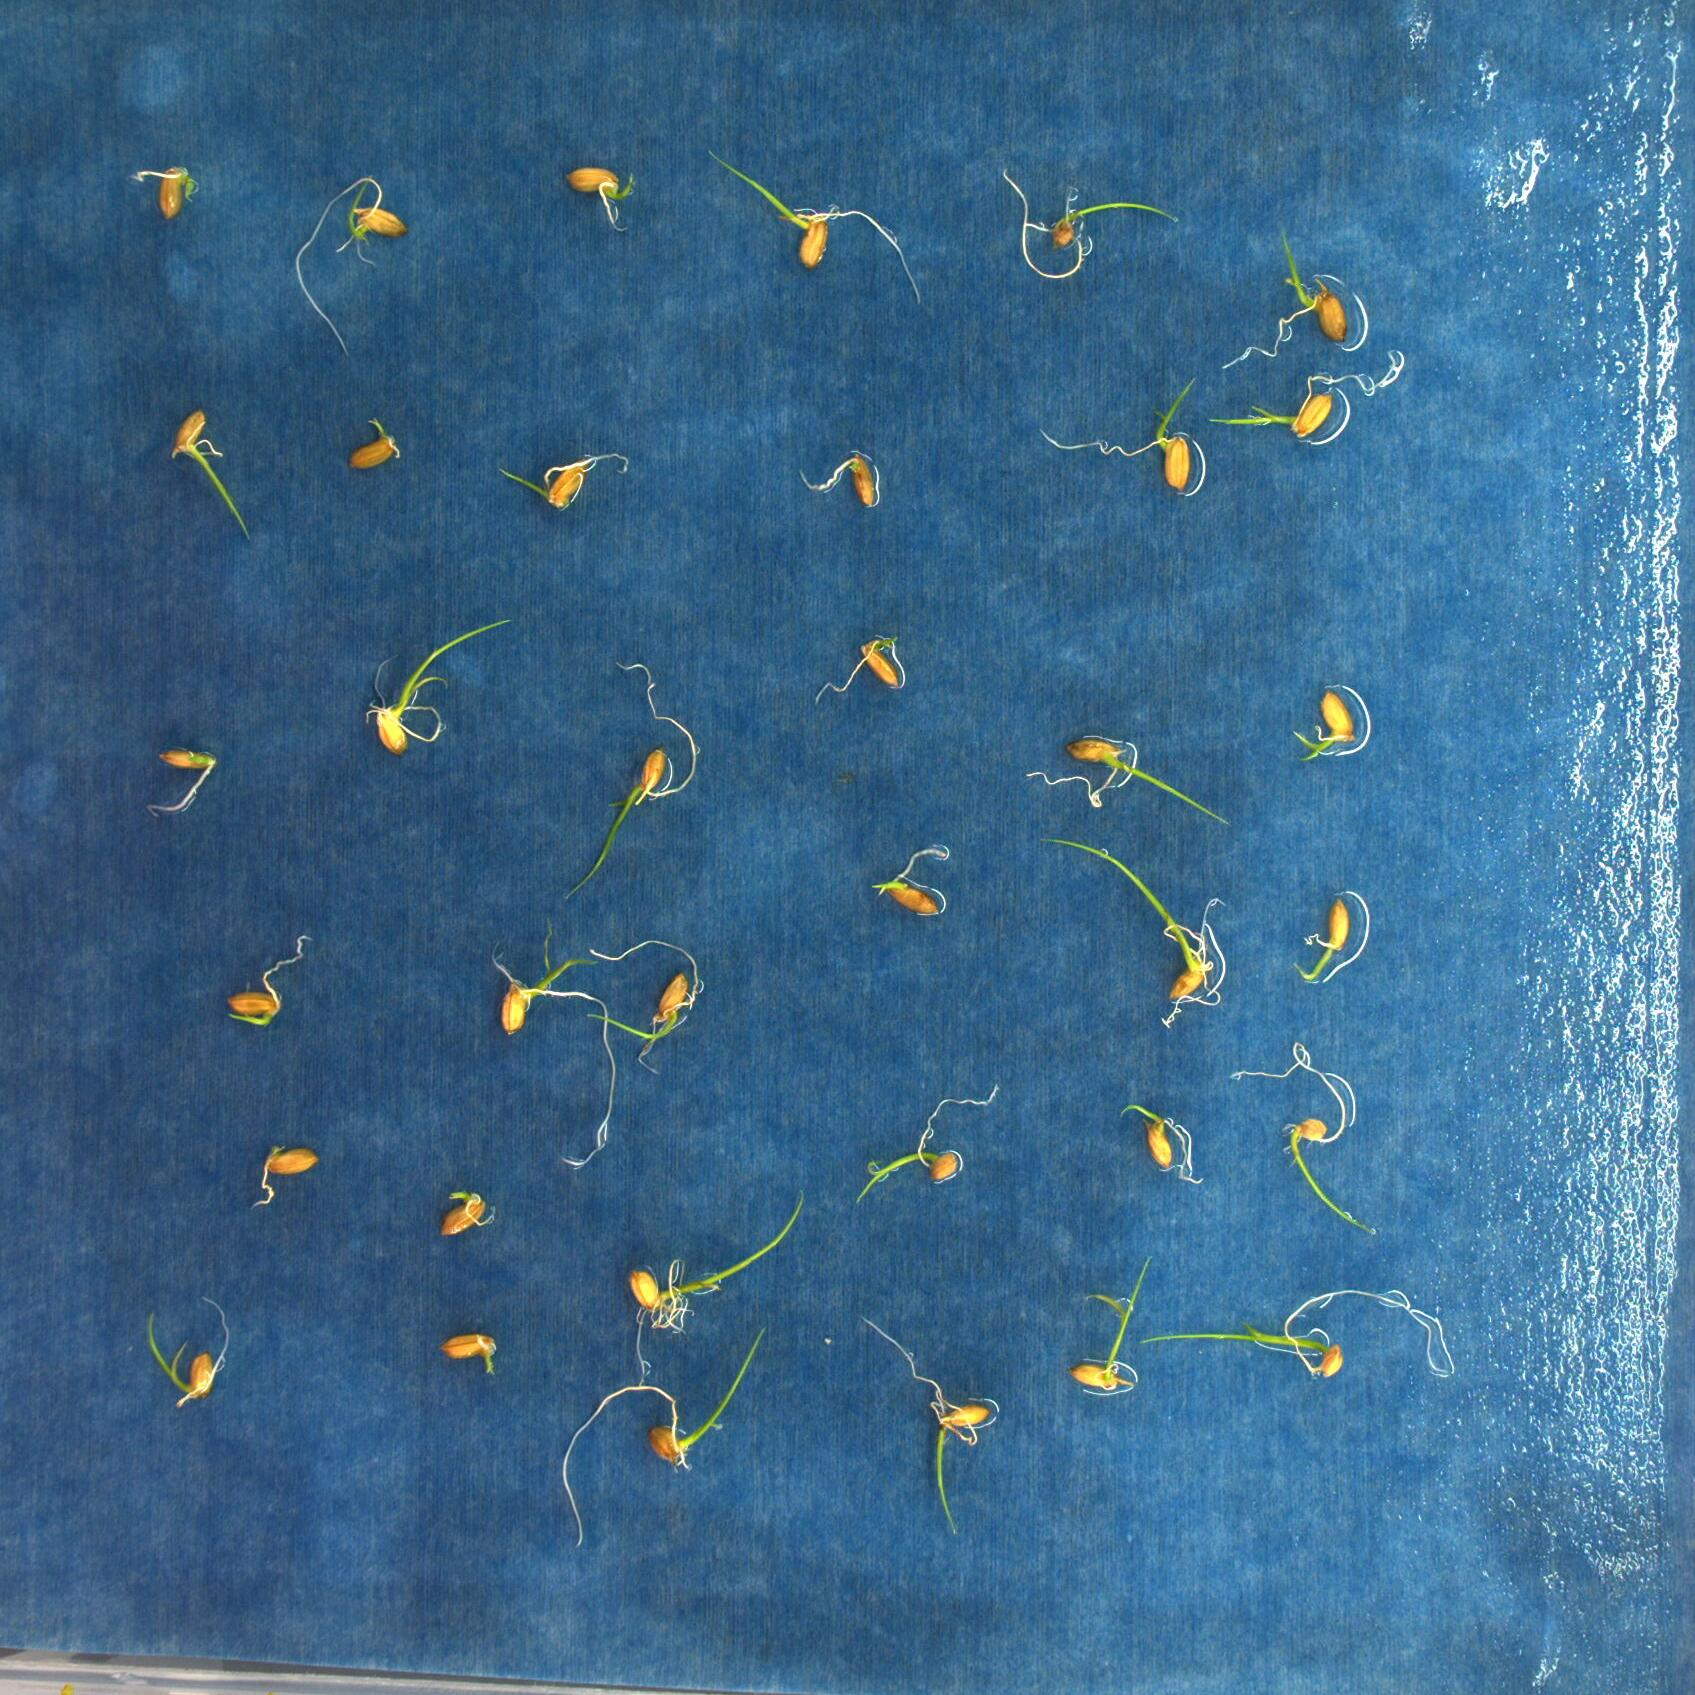not sprout: (792, 436, 882, 515), (866, 840, 948, 925), (560, 158, 644, 236), (815, 633, 902, 703), (242, 1132, 320, 1208), (425, 1180, 504, 1240), (438, 1327, 500, 1378)
sprout: (557, 1318, 785, 1555), (604, 1180, 820, 1389), (542, 649, 711, 914), (697, 133, 931, 310), (1133, 1271, 1465, 1392), (466, 930, 627, 1170), (1031, 840, 1229, 1029), (849, 1301, 997, 1540), (1229, 1040, 1391, 1242), (279, 160, 422, 349), (1035, 365, 1208, 509), (1209, 220, 1358, 380), (362, 612, 511, 761), (1026, 723, 1239, 827), (993, 168, 1186, 282), (844, 1093, 1007, 1205), (582, 936, 716, 1069), (1212, 357, 1355, 461), (1071, 1254, 1155, 1403), (133, 1296, 245, 1405), (158, 407, 253, 529), (220, 920, 318, 1038), (490, 442, 633, 512), (1113, 1097, 1200, 1198), (1277, 685, 1377, 770), (1291, 883, 1358, 989), (151, 736, 224, 826), (340, 411, 418, 477), (135, 161, 211, 225)
